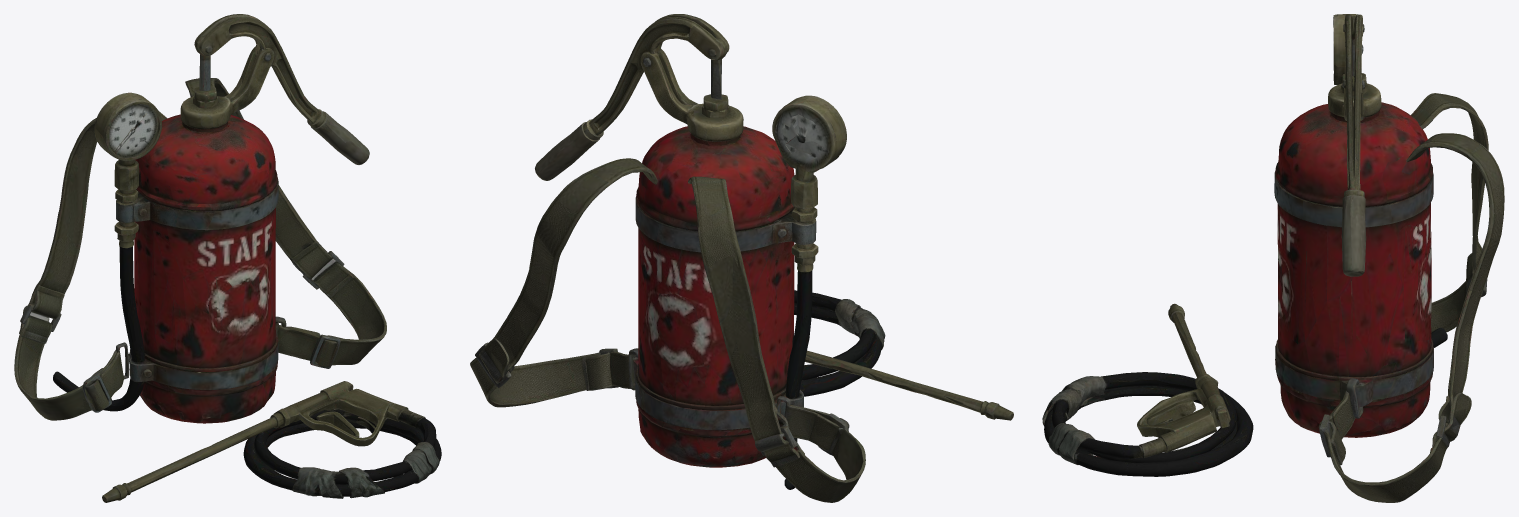
Rendered from zaino_opzione3.gltf.
3 renders of one model, left to right at view 1: azimuth 30°, elevation 25°; view 2: azimuth 150°, elevation 25°; view 3: azimuth 270°, elevation 25°, orthographic. The views are drawn at different scales.
Parts seen in each view (by area): view 1: Zaino; view 2: Zaino; view 3: Zaino.
Part boxes in pixels (x1,y1,x2,y2): Zaino: (14,14,441,502); Zaino: (470,14,1013,502); Zaino: (1042,14,1504,502).
Bounding box in the file's own units: 0.6901 × 0.66 × 0.675.
Materials: 1 (1 with a texture image).
